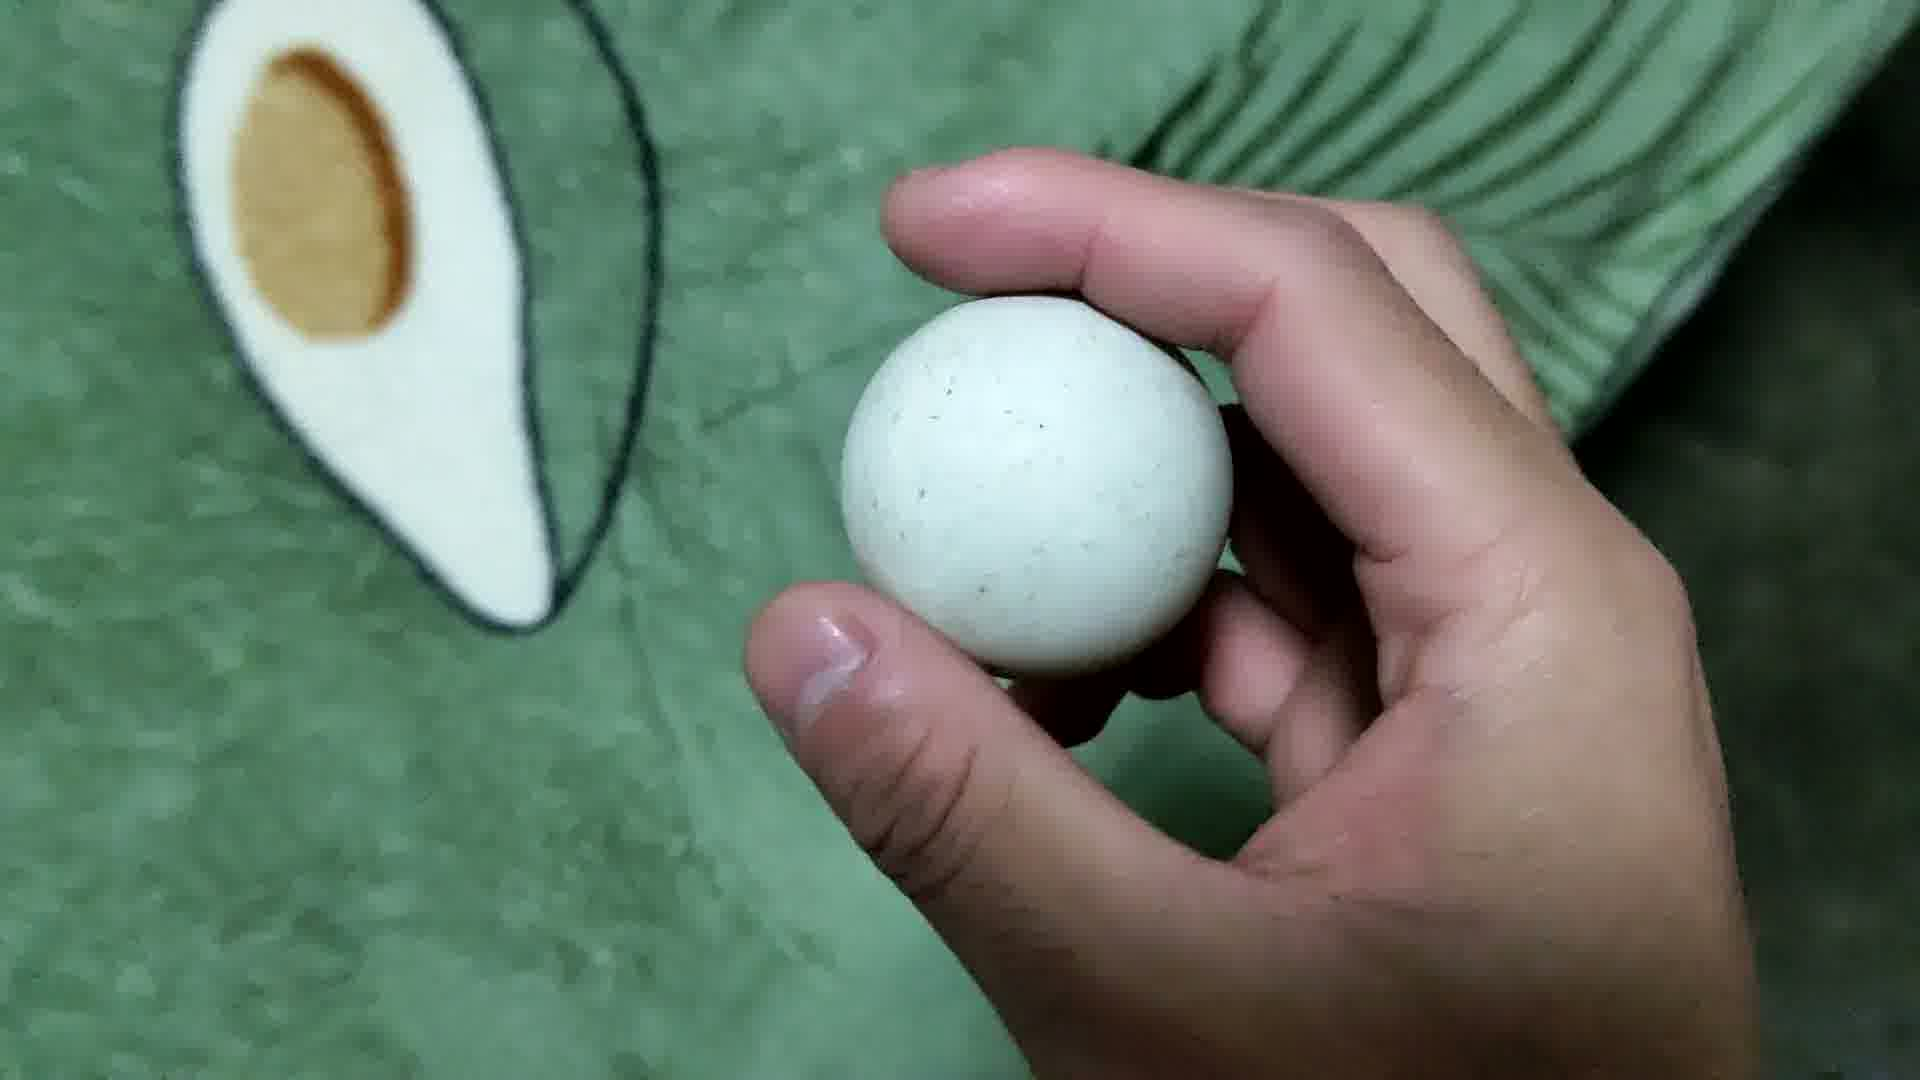Ball: (841, 291, 1244, 674)
